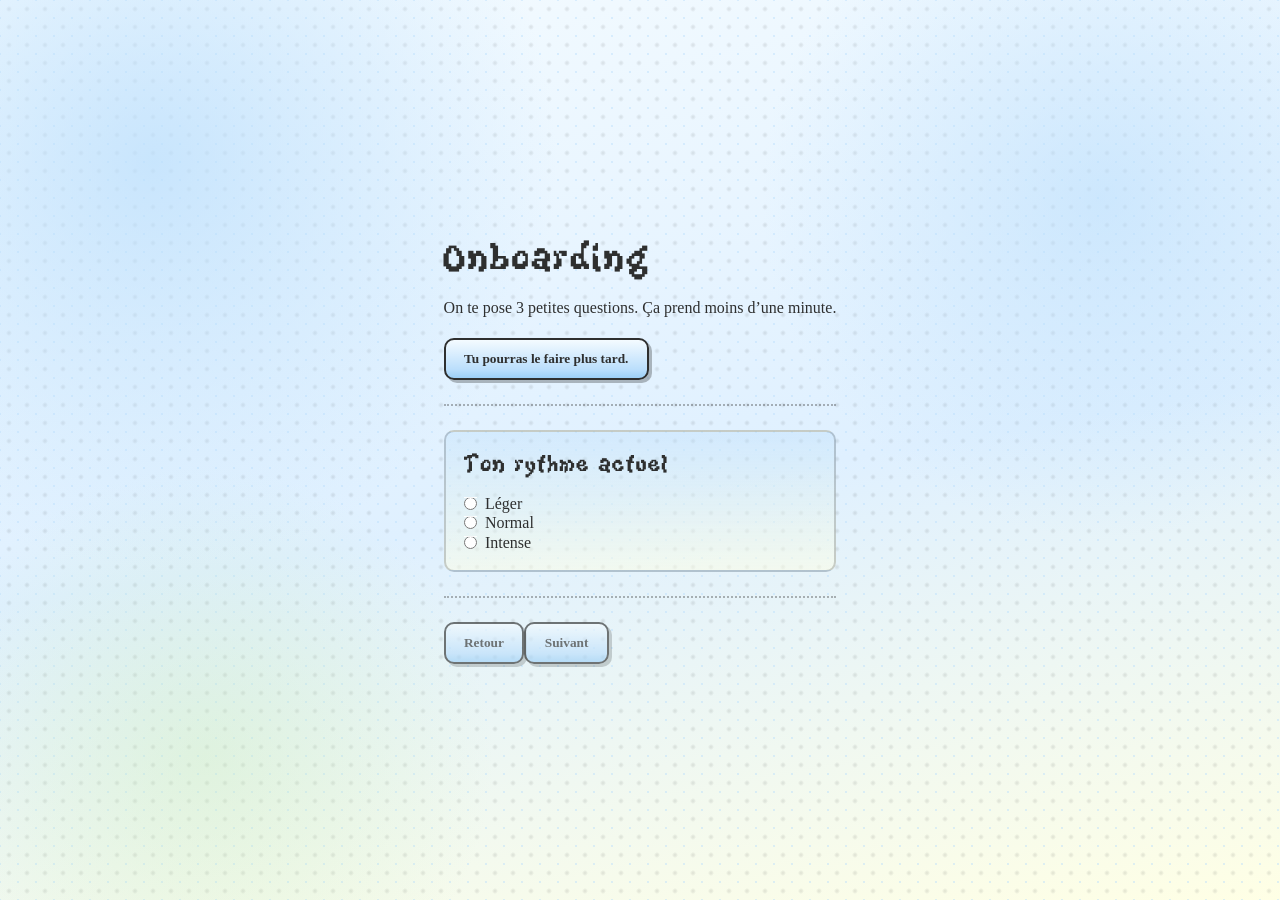
it: OnboardingPage › limits priorities to two choices
This screenshot has width=1280, height=900.
What coordinates should you click on to do the following:
click the radio button labelled "Normal"
I would click on:
 (470, 523)
Its box is [464,516,477,529].
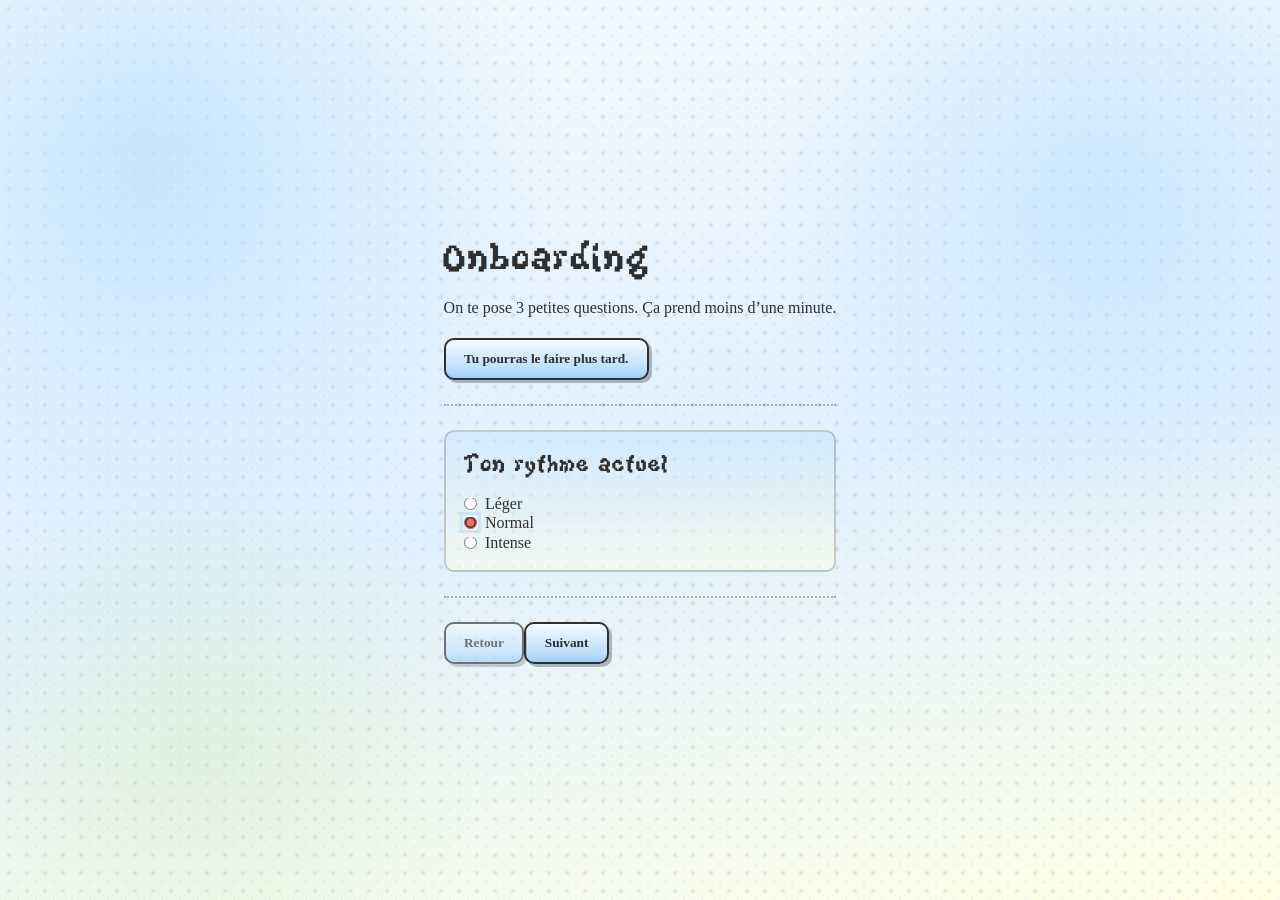
What coordinates should you click on to do the following:
click the button "Suivant"
I would click on:
 (567, 643)
Its box is [524,622,609,664].
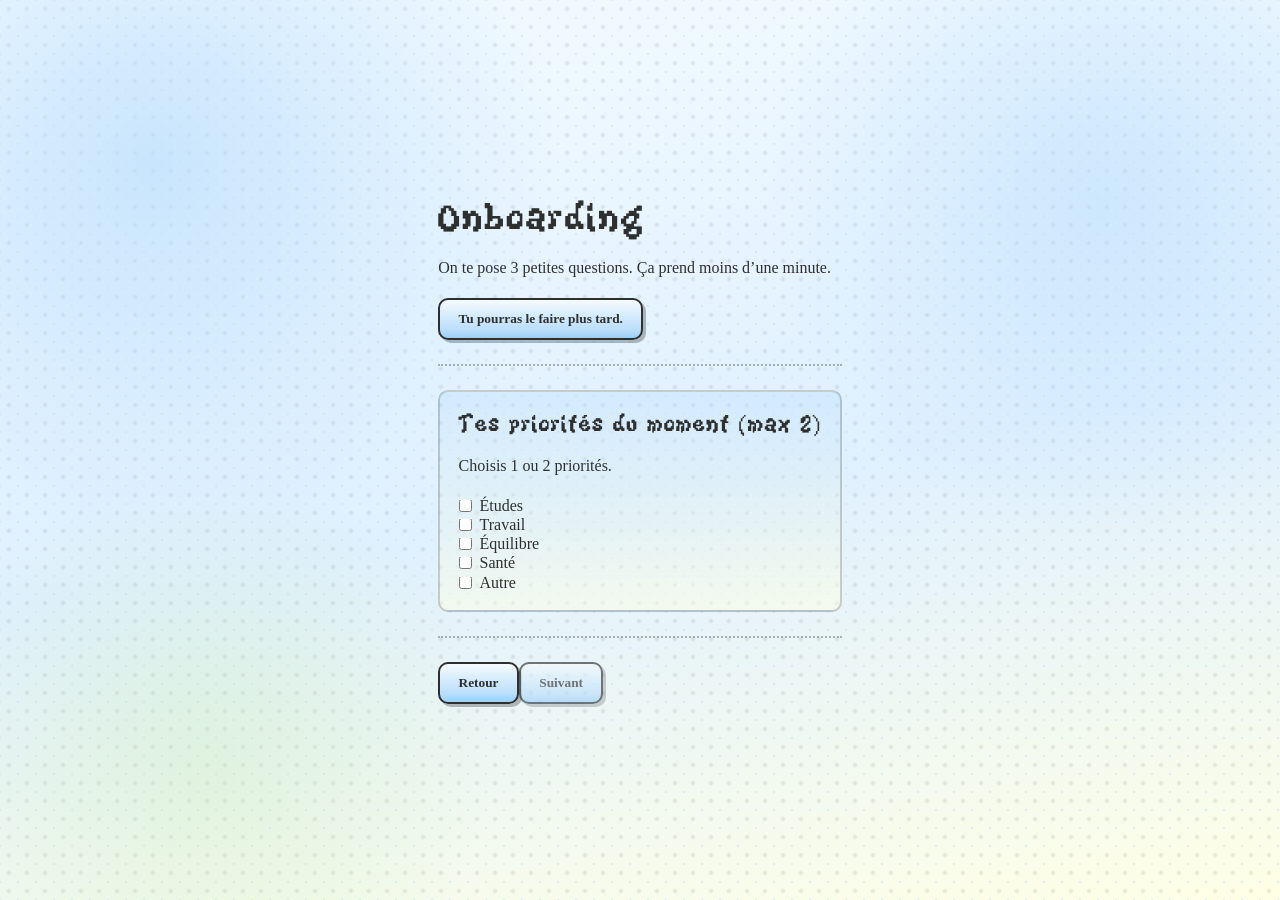
What coordinates should you click on to do the following:
click the checkbox labelled "Études"
I would click on:
 (465, 505)
Its box is [458,499,472,512].
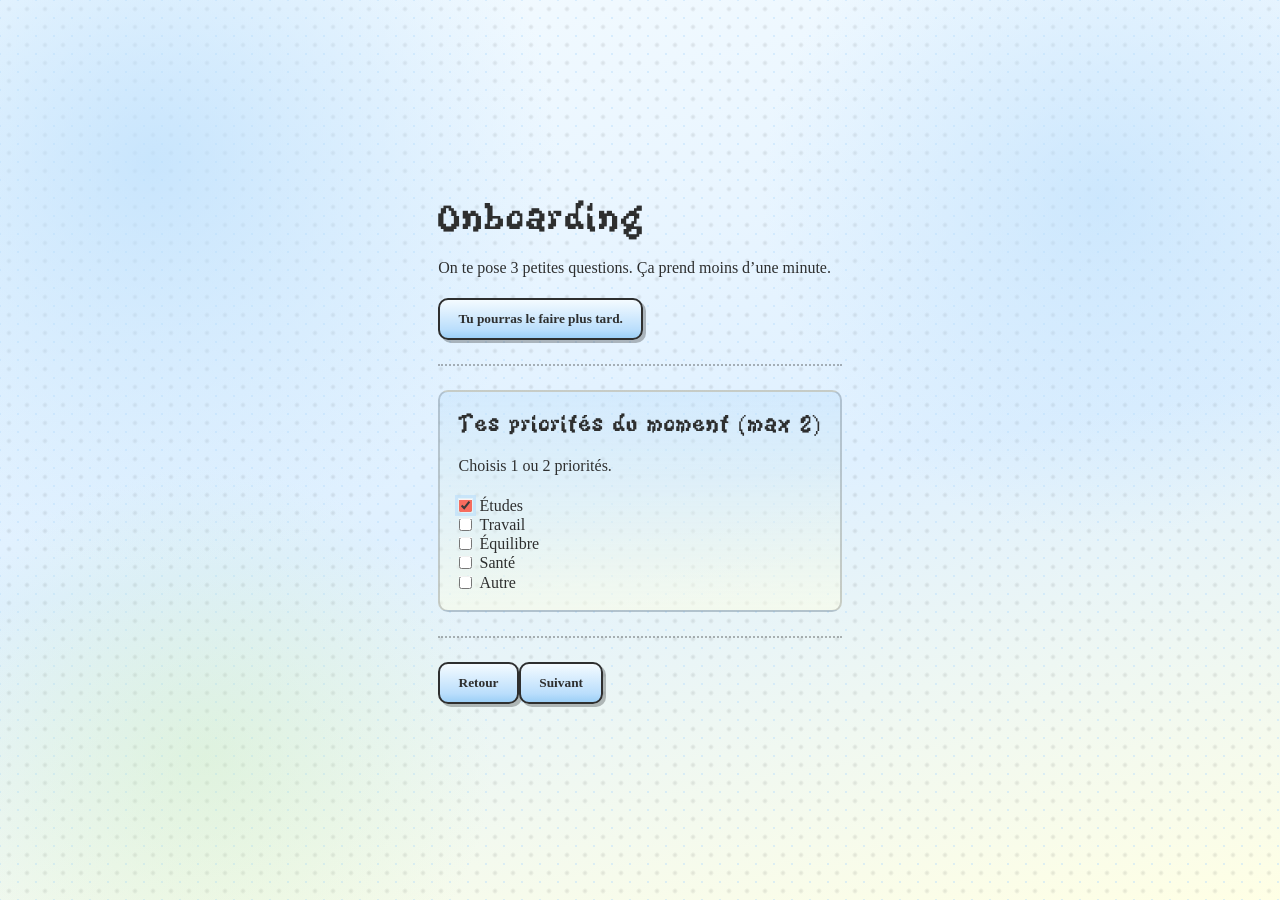
What coordinates should you click on to do the following:
click the checkbox labelled "Travail"
I would click on:
 (465, 524)
Its box is [458,518,472,531].
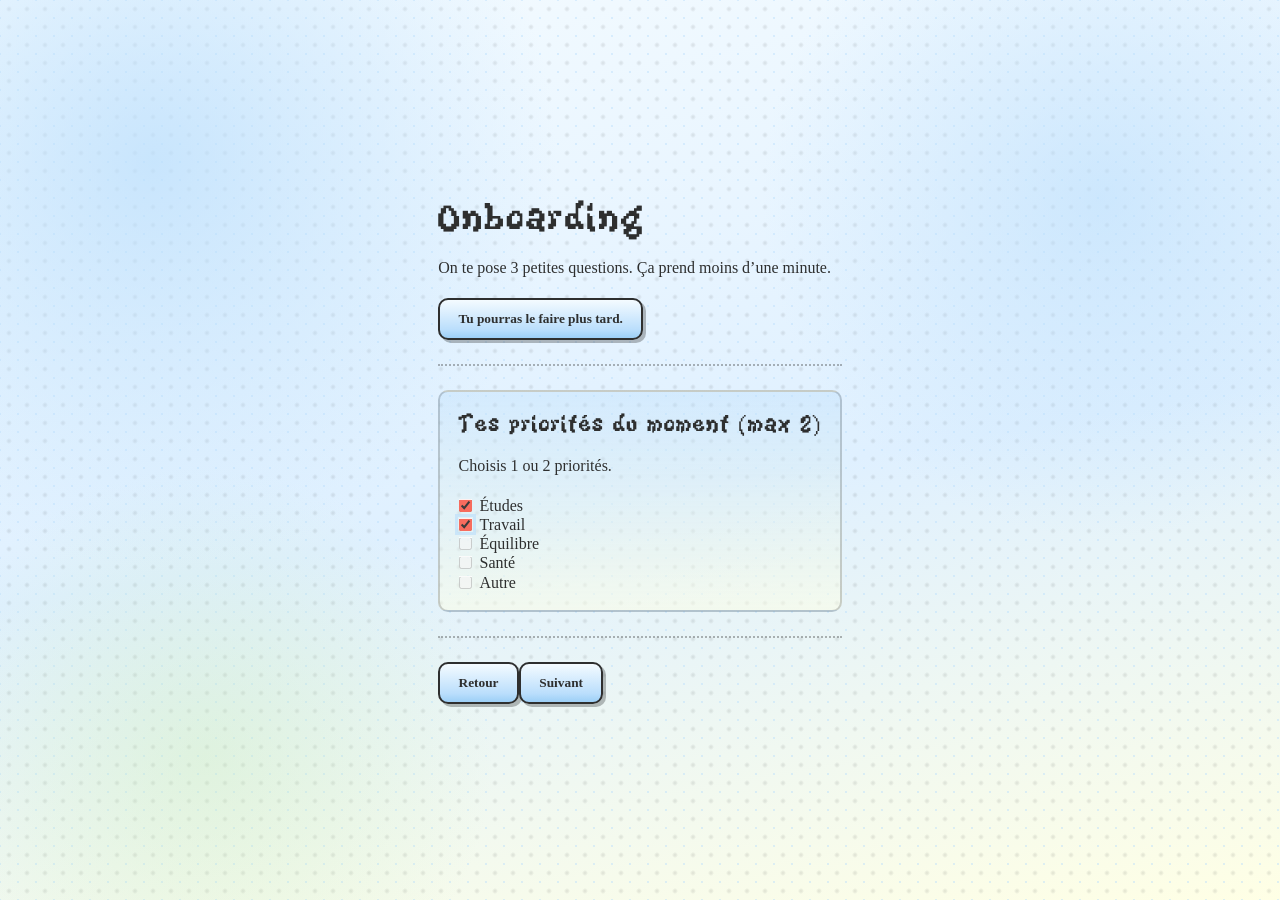
Now the checkbox labelled "Équilibre" is disabled, box [458,537,472,550]
